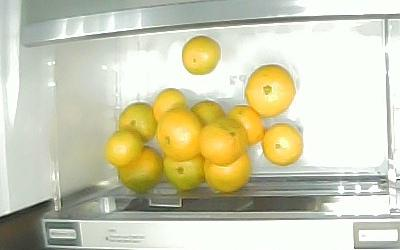tangerine: (246, 64, 296, 117), (156, 108, 203, 159), (201, 118, 248, 166), (118, 145, 163, 193), (204, 151, 250, 194), (262, 123, 304, 166), (181, 35, 221, 75), (225, 105, 264, 144), (119, 102, 157, 141), (103, 130, 144, 166), (163, 154, 204, 189), (154, 88, 185, 124), (190, 100, 226, 127)
